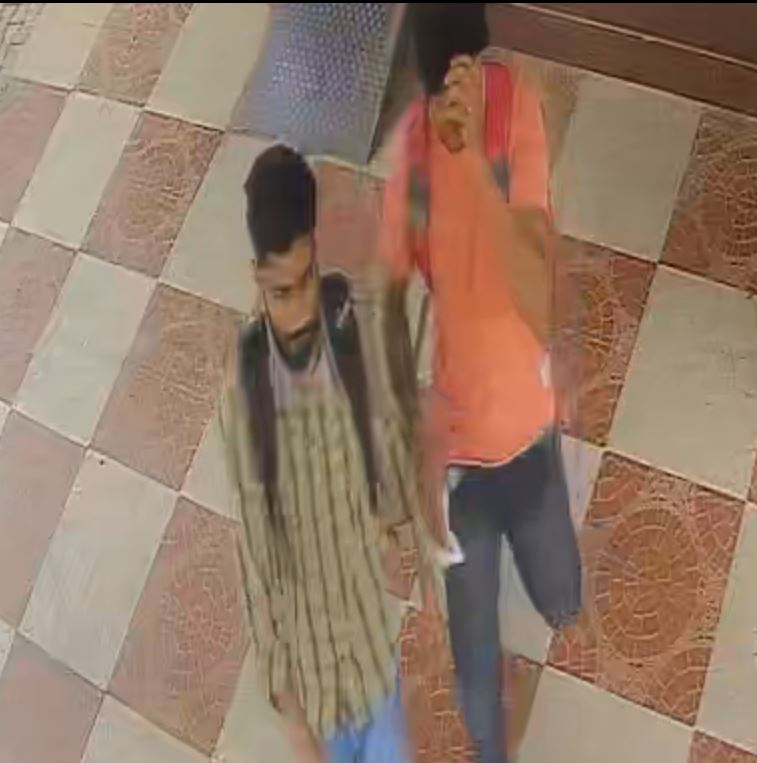intruder: (374, 3, 631, 760), (215, 133, 423, 763)
